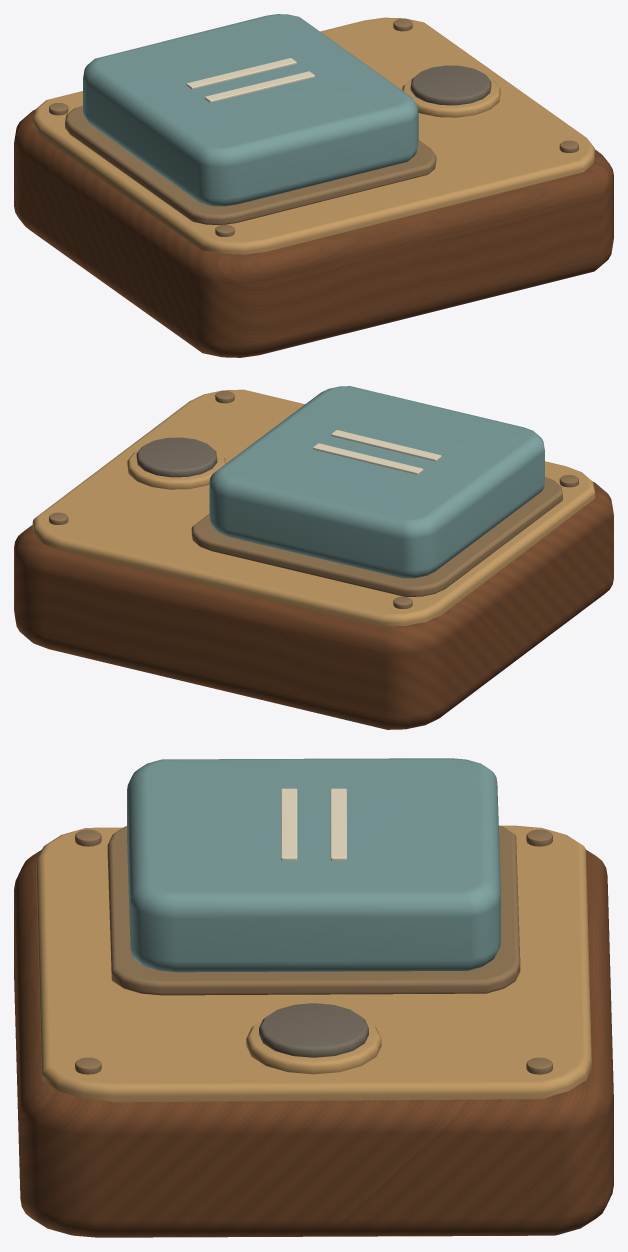
Rendered from wind_control_gate2.glb.
3 renders of one model, top to bottom at view 1: azimuth 30°, elevation 25°; view 2: azimuth 150°, elevation 25°; view 3: azimuth 270°, elevation 25°, orthographic. The views are drawn at different scales.
Visible parts, largest first — view 1: Oak, Teal_Cap, Brass, Patina, Lens, Ivory_Cap; view 2: Oak, Teal_Cap, Brass, Patina, Lens, Ivory_Cap; view 3: Oak, Teal_Cap, Brass, Patina, Lens, Ivory_Cap.
Part boxes in pixels (x1=…): Oak: x1=14, y1=110, x2=613, y2=357; Teal_Cap: x1=83, y1=14, x2=418, y2=206; Brass: x1=32, y1=17, x2=595, y2=254; Patina: x1=49, y1=18, x2=578, y2=236; Lens: x1=410, y1=65, x2=491, y2=105; Ivory_Cap: x1=186, y1=58, x2=314, y2=102; Oak: x1=14, y1=482, x2=613, y2=729; Teal_Cap: x1=209, y1=386, x2=544, y2=578; Brass: x1=32, y1=389, x2=595, y2=626; Patina: x1=49, y1=390, x2=578, y2=608; Lens: x1=136, y1=437, x2=217, y2=477; Ivory_Cap: x1=313, y1=430, x2=441, y2=474; Oak: x1=14, y1=849, x2=613, y2=1237; Teal_Cap: x1=127, y1=758, x2=500, y2=972; Brass: x1=36, y1=825, x2=591, y2=1102; Patina: x1=75, y1=825, x2=552, y2=1074; Lens: x1=259, y1=1003, x2=368, y2=1057; Ivory_Cap: x1=281, y1=788, x2=346, y2=860.
Bounding box in the file's own units: 0.121 × 0.0485 × 0.109.
6 materials, 1 textured.
